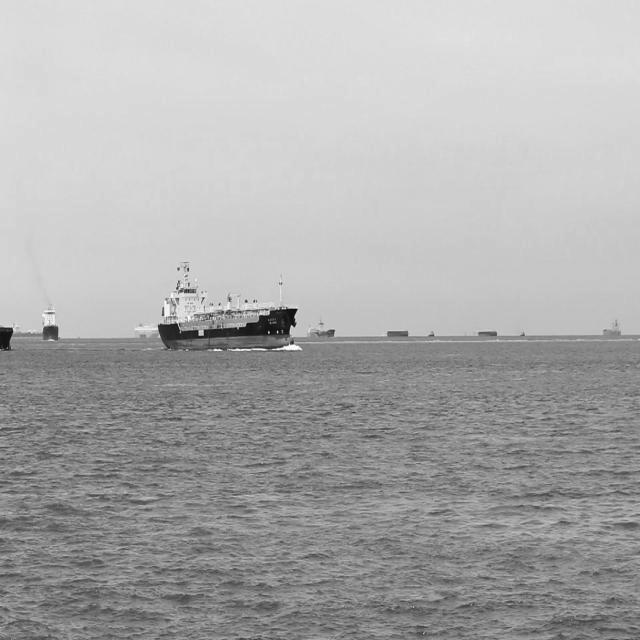ship: (157, 256, 300, 354), (43, 304, 61, 343), (306, 317, 336, 339), (12, 320, 42, 340), (601, 313, 625, 338)
